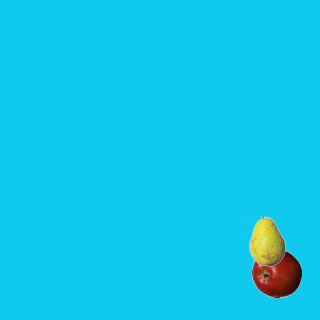Apple Braeburn: (251, 248, 301, 298)
Pear Monster: (242, 215, 292, 265)
